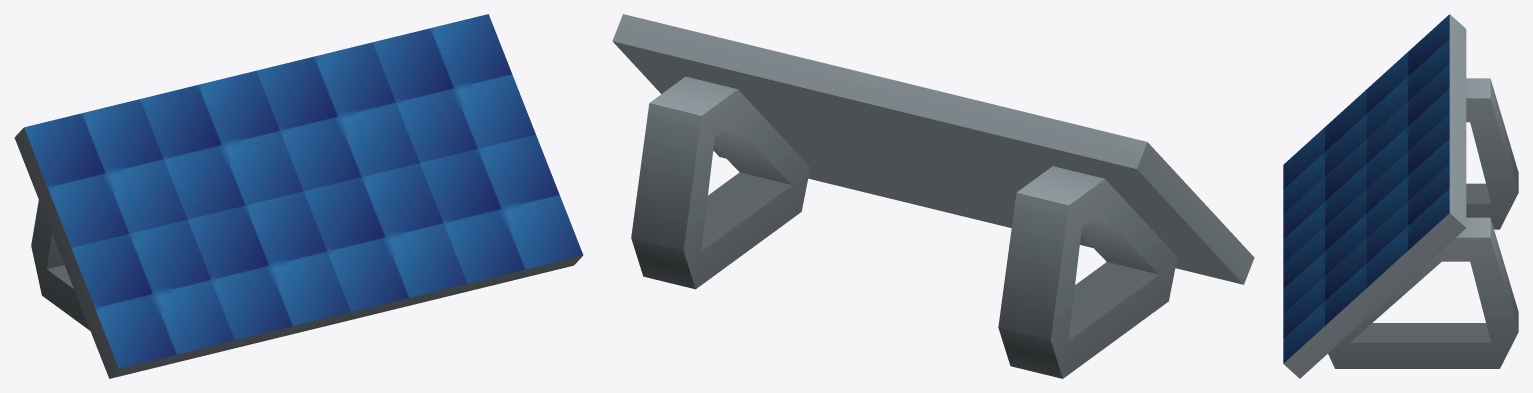
File: solar-panel.glb
3 views of the same model, side by side, from view 1: azimuth 30°, elevation 25°; view 2: azimuth 150°, elevation 25°; view 3: azimuth 270°, elevation 25° (orthographic). The views are drawn at different scales.
Parts seen in each view (by area): view 1: solarpanel; view 2: solarpanel; view 3: solarpanel.
Part boxes in pixels (x1=…): solarpanel: x1=14, y1=14, x2=583, y2=378; solarpanel: x1=612, y1=14, x2=1254, y2=378; solarpanel: x1=1283, y1=14, x2=1518, y2=378.
Bounding box in the file's own units: 0.9 × 0.3709 × 0.45.
Materials: 1 (1 with a texture image).
